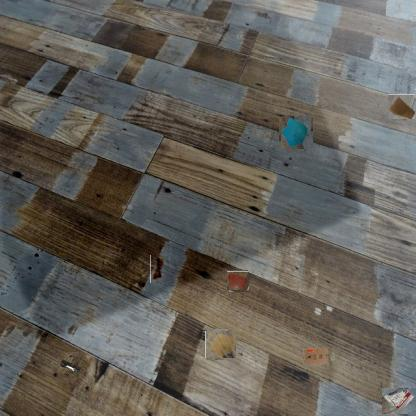dirty: (280, 116, 312, 148), (382, 388, 416, 414), (388, 93, 416, 120), (59, 354, 81, 376), (303, 347, 327, 365), (150, 255, 165, 283)
liquid: (206, 330, 236, 359), (228, 271, 249, 291)
